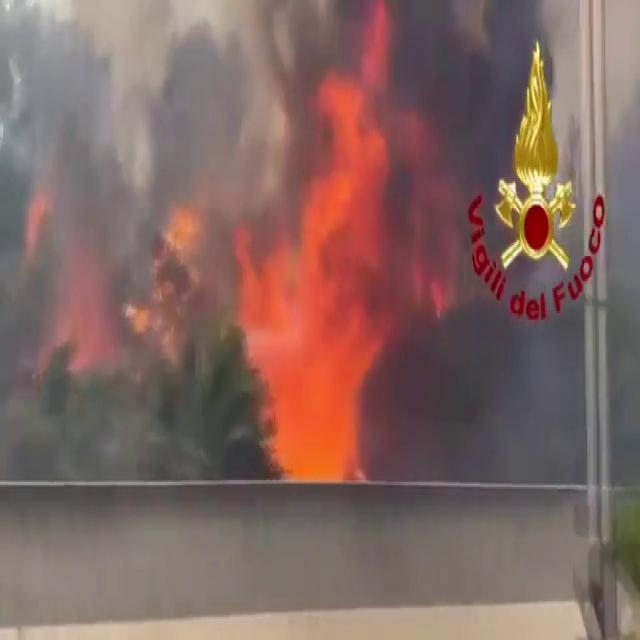Fire: (257, 38, 419, 470)
Smoke: (2, 0, 306, 476)
